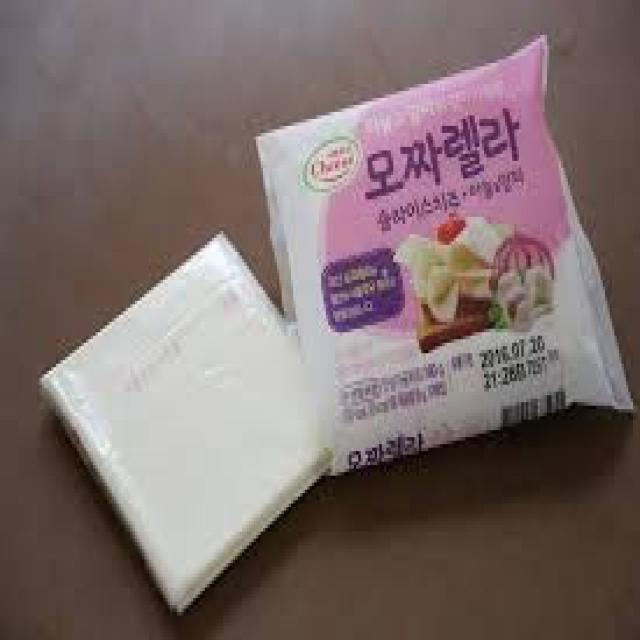slicecheese: (42, 236, 336, 614)
